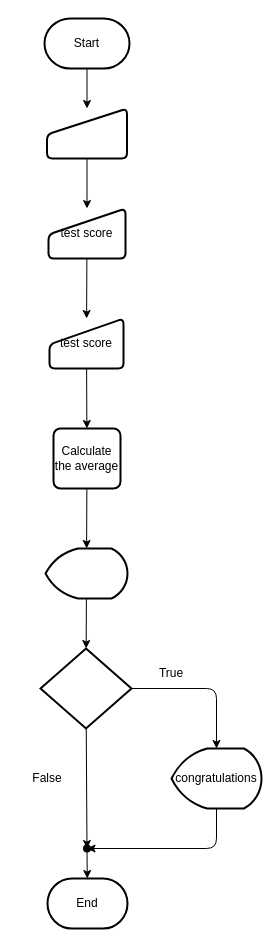
Image size: 280x946. Some labels were removed from this diagram. The centre of each missing label's shape, as x and y in pixels:
Display the average: the point at 86,573
Score>95: the point at 85,688
tast score: the point at 87,133
